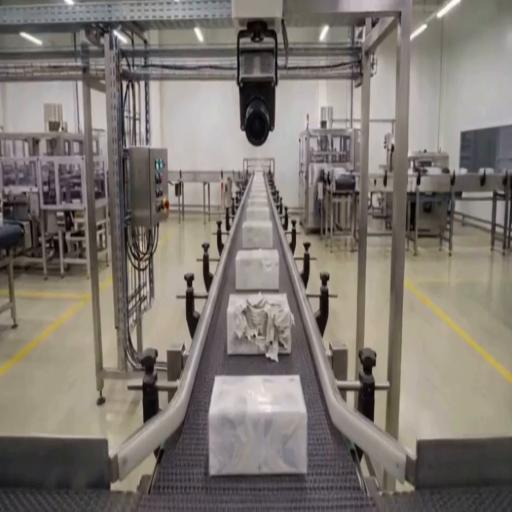defective: (208, 374, 307, 477), (226, 292, 294, 356)
good: (234, 248, 280, 292), (241, 219, 274, 249), (246, 192, 270, 215), (246, 178, 270, 197)
